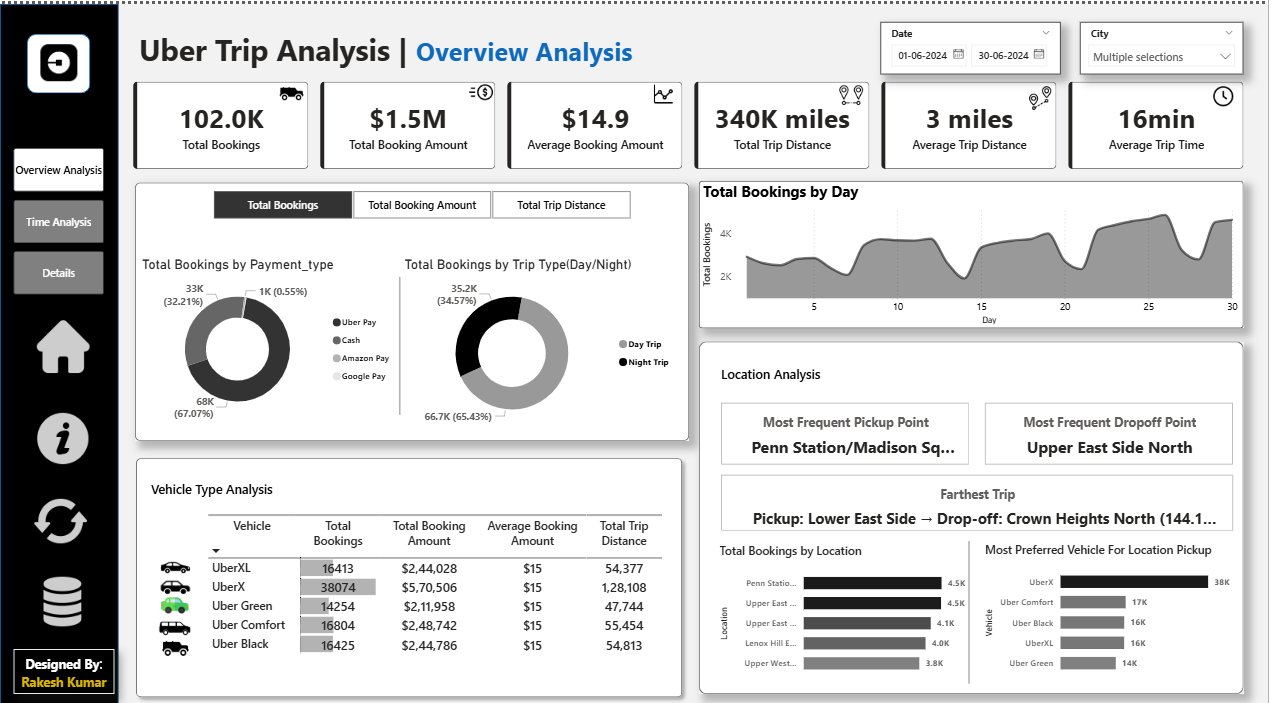

This screenshot's page, from the dashboard's own definition file:
{"tool":"powerbi","page":{"name":"Overview Analysis","canvas":[1600,900],"ordinal":0},"visuals":[{"type":"shape","box":[0,0,149.5,901],"z":0},{"type":"textbox","box":[170.1,26,711,63.8],"z":1000},{"type":"cardVisual","fields":{"Data":["Trip Details.Total Bookings","Trip Details.Total Booking Amount","Trip Details.Average Booking Amount","Trip Details.Total Trip Distance","Trip Details.Average Trip Distance","Trip Details.Average Trip Time"]},"box":[162,93,1415,120],"z":2000},{"type":"image","box":[1027.6,94.5,92.1,40.2],"z":3000},{"type":"image","box":[1526,99.2,35.4,35.4],"z":4000},{"type":"shape","box":[170.1,224.4,699.2,326],"z":5000},{"type":"image","box":[1285,99.2,56.7,40.2],"z":6000},{"type":"image","box":[585.8,89.8,40.2,44.9],"z":7000},{"type":"image","box":[800.8,94.5,73.2,37.8],"z":8000},{"type":"image","box":[337.8,92.1,61.4,40.2],"z":9000},{"type":"slicer","fields":{"Values":["Dynamic Measure.Dynamic Measure"]},"box":[243.3,228.3,575,48.3],"z":10000},{"type":"donutChart","fields":{"Y":["Trip Details.Total Bookings"],"Category":["Trip Details.Trip Type(Day/Night)"]},"box":[506.2,318.8,352.5,225],"z":11000},{"type":"donutChart","fields":{"Y":["Trip Details.Total Bookings"],"Category":["Trip Details.Payment_type"]},"box":[175,318.8,331.2,215],"z":12000},{"type":"shape","box":[162.6,564.5,707,319.7],"z":13000},{"type":"pivotTable","fields":{"Rows":["Trip Details.Vehicle"],"Values":["Trip Details.Total Bookings","Trip Details.Total Booking Amount","Trip Details.Average Booking Amount","Trip Details.Total Trip Distance measure"]},"box":[256.7,638.3,591.7,218.3],"z":14000},{"type":"image","box":[175,685,95,51.7],"z":15000},{"type":"image","box":[170.8,711.7,101.7,48.3],"z":16000},{"type":"image","box":[166.7,736.7,108.3,45],"z":17000},{"type":"image","box":[163.3,760,115,53.3],"z":18000},{"type":"image","box":[175,791.7,95,43.3],"z":19000},{"type":"multiRowCard","fields":{"Values":["Trip Details.Title for Grid"]},"box":[186,596,214,42],"z":20000},{"type":"shape","box":[881.4,224.3,687.1,185.7],"z":21000},{"type":"areaChart","fields":{"Category":["Calendar Table.Date.Variation.Date Hierarchy.Day"],"Y":["Trip Details.Total Bookings"]},"box":[881.4,224.3,687.1,185.7],"z":22000},{"type":"shape","box":[882,425.9,687.1,444.8],"z":23000},{"type":"cardVisual","fields":{"Data":["Trip Details.Most Frequent Pickup Point","Trip Details.Most Frequent Dropoff Point"]},"box":[904.7,497.8,656.8,89],"z":24000},{"type":"cardVisual","fields":{"Data":["Trip Details.Farthest Trip"]},"box":[904.7,588.6,656.8,81.4],"z":25000},{"type":"barChart","fields":{"Category":["Location Table.Location"],"Y":["Trip Details.Total Bookings"]},"box":[902.8,679.5,323.7,176],"z":26000},{"type":"barChart","title":"Most Preferred Vehicle For Location Pickup","fields":{"Y":["Trip Details.Total Bookings"],"Category":["Trip Details.Vehicle"]},"box":[1237.9,677.6,323.7,177.9],"z":27000},{"type":"shape","box":[1073.2,677.6,299.1,179.8],"z":28000},{"type":"shape","box":[353.9,344.5,300.9,174.1],"z":29000},{"type":"multiRowCard","fields":{"Values":["Trip Details.Title for location"]},"box":[904.7,450.5,215.8,39.7],"z":30000},{"type":"slicer","fields":{"Values":["Calendar Table.Date"]},"box":[1111,22.7,227.1,66.2],"z":31000},{"type":"slicer","fields":{"Values":["Location Table.City"]},"box":[1362.8,22.7,206.3,66.2],"z":32000},{"type":"shape","box":[34.9,37.3,79.7,74.7],"z":33000,"group":"g1"},{"type":"pageNavigator","box":[17.4,181.7,114.5,186.7],"z":33000},{"type":"group","id":"g1","title":"Group 1","box":[34.9,37.3,79.7,74.7],"z":34000},{"type":"image","box":[42.4,44.8,64.7,57.3],"z":34000,"group":"g1"},{"type":"image","box":[40.2,392.8,80.4,76.7],"z":35000},{"type":"image","box":[42,507.9,74.9,82.2],"z":36000},{"type":"image","box":[38.4,604.7,76.7,96.8],"z":37000},{"type":"image","box":[11,717.9,135.2,73.1],"z":38000},{"type":"textbox","box":[17.4,814.1,127,57.3],"z":39000}]}

Visuals, with their boxes on the page's 1600x900 design canvas (x1, y1, x2, y2). These are canvas units, not pixel positions in the 1275x703 screenshot, which may show the page scaled, cropped or inside an application window:
shape: (x1=0, y1=0, x2=150, y2=901)
textbox: (x1=170, y1=26, x2=881, y2=90)
cardVisual - Trip Details.Total Bookings x Trip Details.Total Booking Amount: (x1=162, y1=93, x2=1577, y2=213)
image: (x1=1028, y1=94, x2=1120, y2=135)
image: (x1=1526, y1=99, x2=1561, y2=135)
shape: (x1=170, y1=224, x2=869, y2=550)
image: (x1=1285, y1=99, x2=1342, y2=139)
image: (x1=586, y1=90, x2=626, y2=135)
image: (x1=801, y1=94, x2=874, y2=132)
image: (x1=338, y1=92, x2=399, y2=132)
slicer - Dynamic Measure.Dynamic Measure: (x1=243, y1=228, x2=818, y2=277)
donutChart - Trip Details.Total Bookings x Trip Details.Trip Type(Day/Night): (x1=506, y1=319, x2=859, y2=544)
donutChart - Trip Details.Total Bookings x Trip Details.Payment_type: (x1=175, y1=319, x2=506, y2=534)
shape: (x1=163, y1=564, x2=870, y2=884)
pivotTable - Trip Details.Vehicle x Trip Details.Total Bookings: (x1=257, y1=638, x2=848, y2=857)
image: (x1=175, y1=685, x2=270, y2=737)
image: (x1=171, y1=712, x2=272, y2=760)
image: (x1=167, y1=737, x2=275, y2=782)
image: (x1=163, y1=760, x2=278, y2=813)
image: (x1=175, y1=792, x2=270, y2=835)
multiRowCard - Trip Details.Title for Grid: (x1=186, y1=596, x2=400, y2=638)
shape: (x1=881, y1=224, x2=1568, y2=410)
areaChart - Calendar Table.Date.Variation.Date Hierarchy.Day x Trip Details.Total Bookings: (x1=881, y1=224, x2=1568, y2=410)
shape: (x1=882, y1=426, x2=1569, y2=871)
cardVisual - Trip Details.Most Frequent Pickup Point x Trip Details.Most Frequent Dropoff Point: (x1=905, y1=498, x2=1562, y2=587)
cardVisual - Trip Details.Farthest Trip: (x1=905, y1=589, x2=1562, y2=670)
barChart - Location Table.Location x Trip Details.Total Bookings: (x1=903, y1=680, x2=1226, y2=856)
"Most Preferred Vehicle For Location Pickup" barChart: (x1=1238, y1=678, x2=1562, y2=856)
shape: (x1=1073, y1=678, x2=1372, y2=857)
shape: (x1=354, y1=344, x2=655, y2=519)
multiRowCard - Trip Details.Title for location: (x1=905, y1=450, x2=1120, y2=490)
slicer - Calendar Table.Date: (x1=1111, y1=23, x2=1338, y2=89)
slicer - Location Table.City: (x1=1363, y1=23, x2=1569, y2=89)
shape: (x1=35, y1=37, x2=115, y2=112)
pageNavigator: (x1=17, y1=182, x2=132, y2=368)
"Group 1" group: (x1=35, y1=37, x2=115, y2=112)
image: (x1=42, y1=45, x2=107, y2=102)
image: (x1=40, y1=393, x2=121, y2=470)
image: (x1=42, y1=508, x2=117, y2=590)
image: (x1=38, y1=605, x2=115, y2=702)
image: (x1=11, y1=718, x2=146, y2=791)
textbox: (x1=17, y1=814, x2=144, y2=871)
